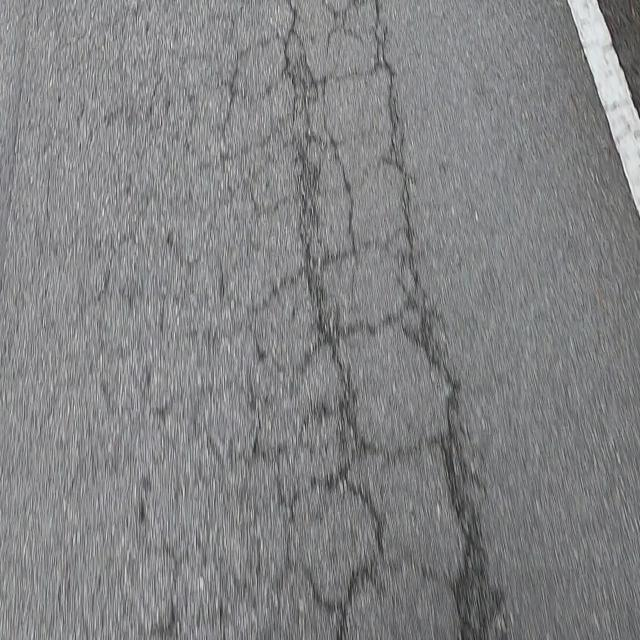Retak-Buaya: (222, 0, 499, 635)
